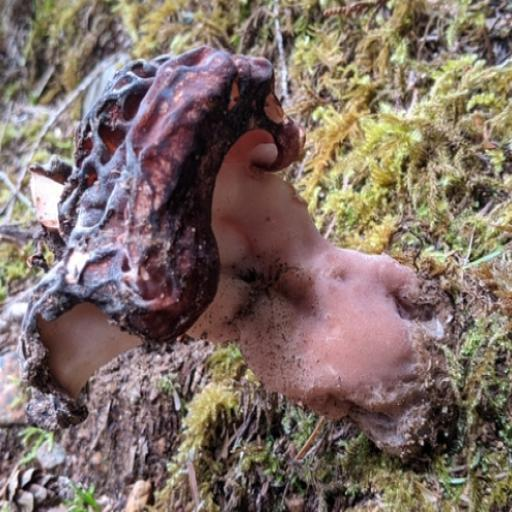mushroom: (20, 47, 325, 431)
